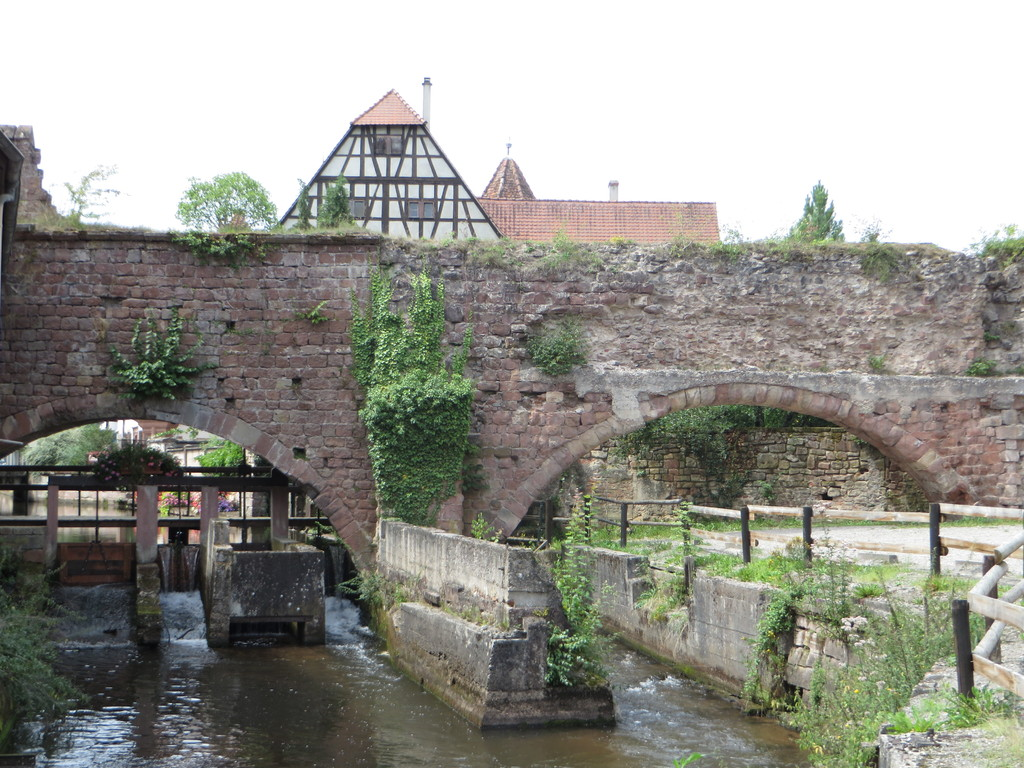Tree: (345, 241, 469, 527), (629, 403, 798, 513), (174, 165, 273, 241), (24, 412, 129, 479), (786, 174, 846, 242), (314, 177, 352, 225)
